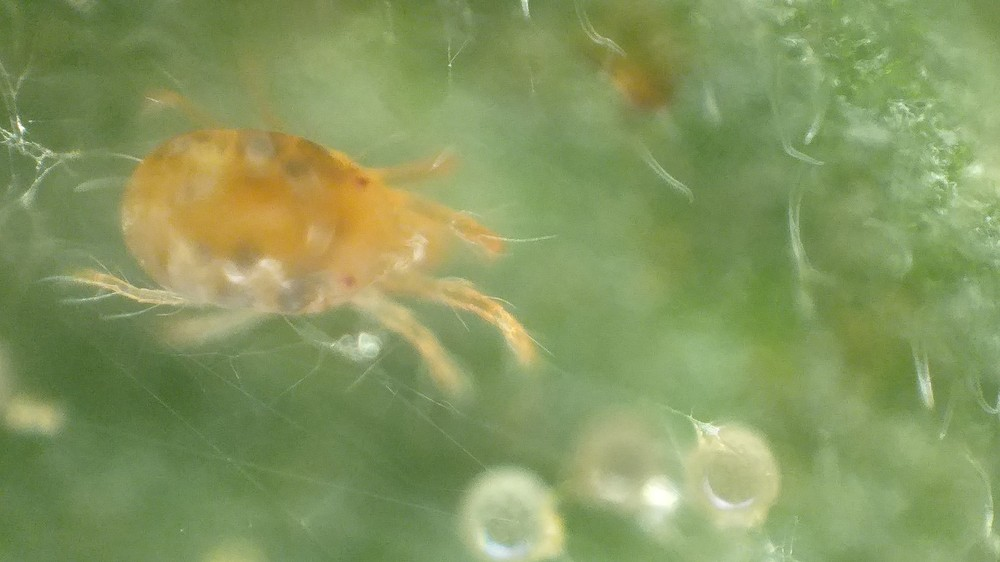Aracnido Rojo: (81, 80, 593, 414)
